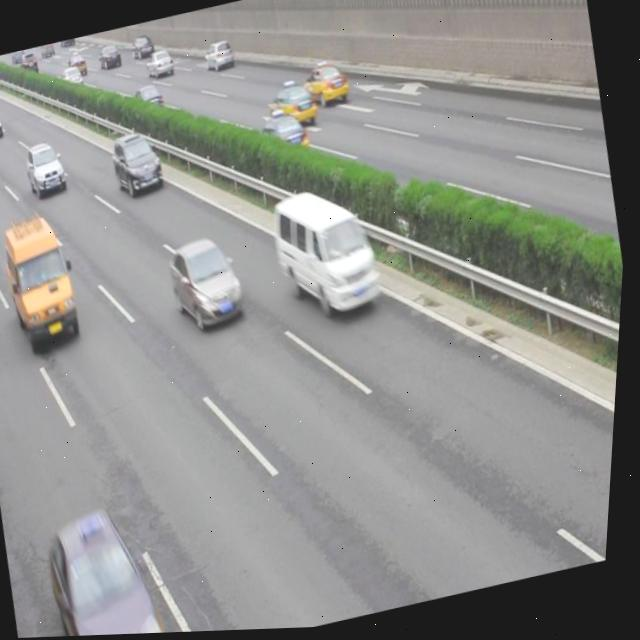car: (48, 507, 182, 638), (167, 234, 254, 338), (109, 130, 170, 201), (266, 79, 321, 135), (256, 109, 313, 160), (25, 138, 71, 198), (299, 61, 352, 111), (202, 41, 236, 75), (132, 86, 167, 117), (145, 51, 177, 83), (58, 64, 87, 93), (97, 45, 125, 73), (130, 36, 155, 61), (0, 107, 8, 144)
truck: (267, 181, 392, 329), (0, 209, 91, 350)
